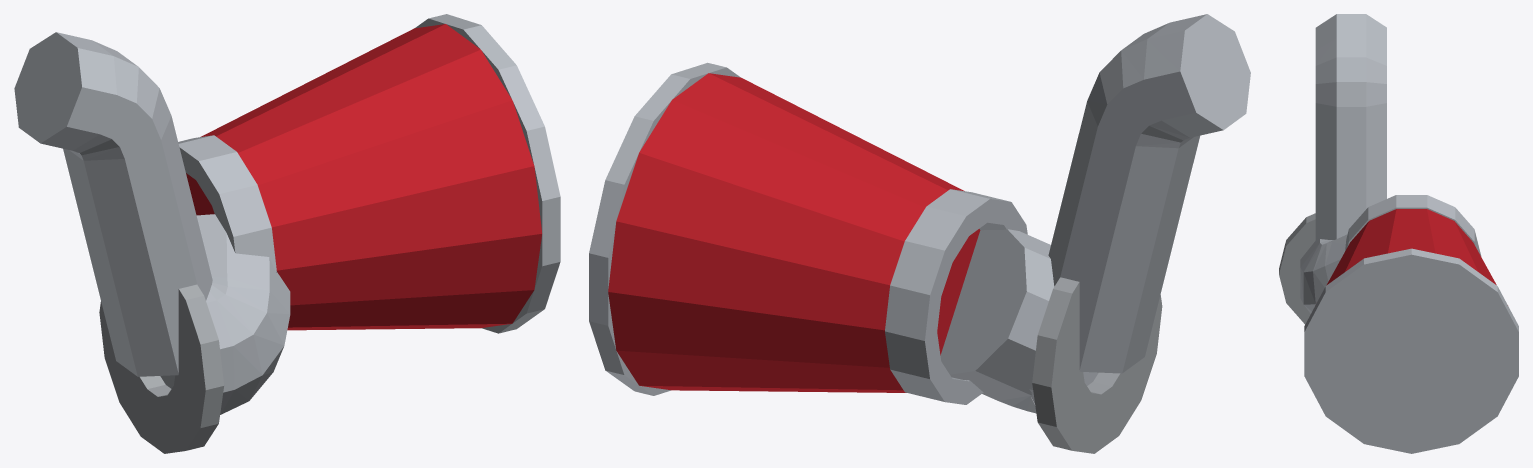
The model's file is ridgeback_4x4.glb.
The picture shows the model from 3 angles, left to right: view 1: azimuth 30°, elevation 25°; view 2: azimuth 150°, elevation 25°; view 3: azimuth 270°, elevation 25°; orthographic projection. The views are drawn at different scales.
Parts seen in each view (by area): view 1: model; view 2: model; view 3: model.
Boxes of the visible parts, bbox=[...] form: model: bbox=[14, 14, 560, 453]; model: bbox=[589, 14, 1250, 453]; model: bbox=[1279, 14, 1518, 453].
Bounding box in the file's own units: 0.3236 × 0.2655 × 0.1991.
Materials: 2 (1 with a texture image).
